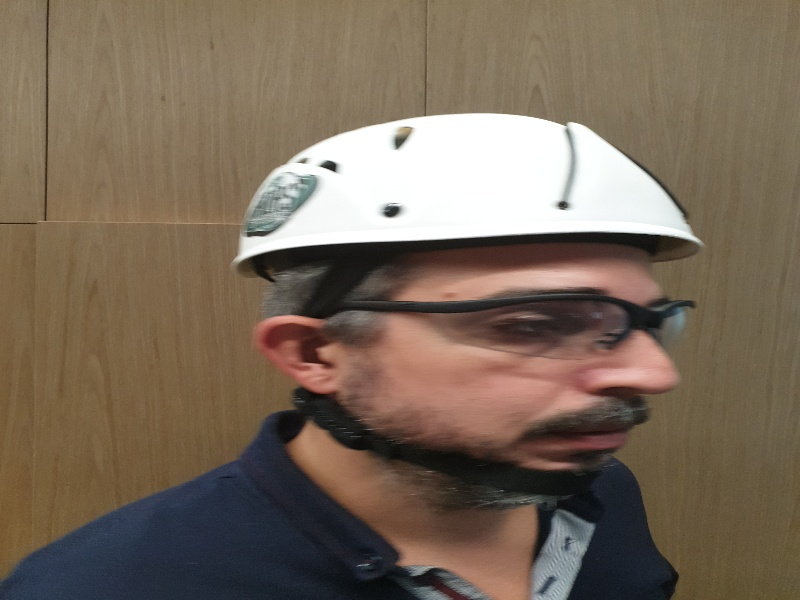Baret: (232, 114, 704, 259)
Gozluk: (315, 292, 698, 361)
